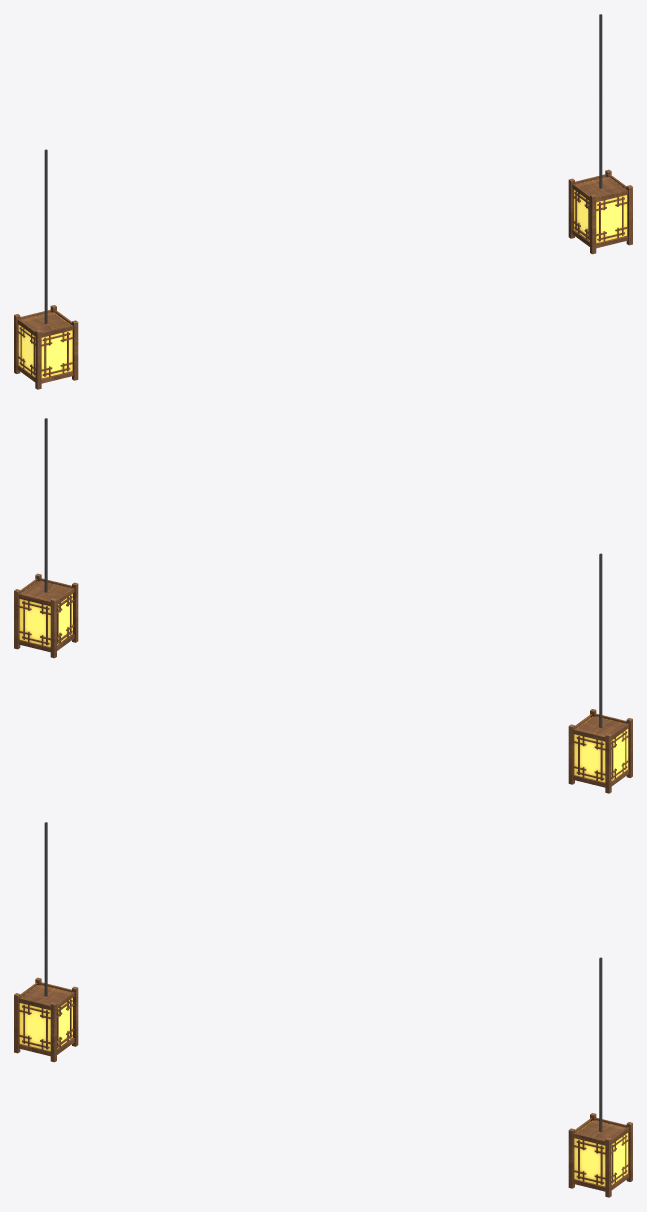
Rendered from TraditionalKoreanHouse_LightB.fbx.
The picture shows the model from 3 angles, top to bottom: view 1: azimuth 30°, elevation 25°; view 2: azimuth 150°, elevation 25°; view 3: azimuth 330°, elevation 25°; orthographic projection.
Visible parts, largest first — view 1: TraditionalKoreanHouse_LightB; view 2: TraditionalKoreanHouse_LightB; view 3: TraditionalKoreanHouse_LightB.
Boxes of the visible parts, x1,y1,x2,y2 form: TraditionalKoreanHouse_LightB: (14, 14, 632, 389); TraditionalKoreanHouse_LightB: (14, 418, 632, 793); TraditionalKoreanHouse_LightB: (14, 822, 632, 1197).
Bounding box in the file's own units: 367 × 133 × 25.13.
